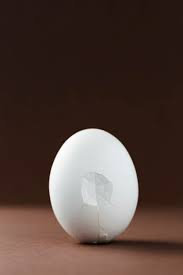egg: (49, 128, 137, 244)
